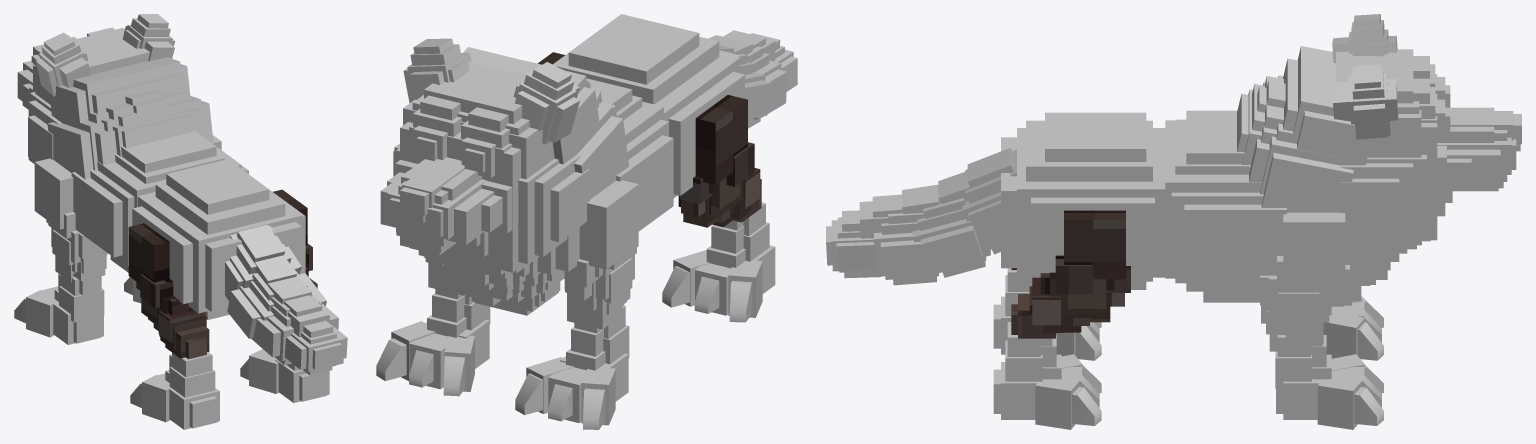
The model's file is dire_wolf.obj.
The picture shows the model from 3 angles, left to right: view 1: azimuth 30°, elevation 25°; view 2: azimuth 150°, elevation 25°; view 3: azimuth 270°, elevation 25°; orthographic projection. The views are drawn at different scales.
Parts seen in each view (by area): view 1: dire_wolf_body_lower, dire_wolf_head, dire_wolf_body_upper, dire_wolf_fur, dire_wolf_leg.005, dire_wolf_tail.001, dire_wolf_leg.007, dire_wolf_tail, dire_wolf_leg.002, dire_wolf_ear, dire_wolf_leg.004, dire_wolf_leg.003 (+2 smaller); view 2: dire_wolf_head, dire_wolf_body_lower, dire_wolf_leg.004, dire_wolf_fur, dire_wolf_leg.005, dire_wolf_leg.002, dire_wolf_head.001, dire_wolf_ear, dire_wolf_leg.003, dire_wolf_body_upper, dire_wolf_leg.007, dire_wolf_tail.001 (+4 smaller); view 3: dire_wolf_body_lower, dire_wolf_head, dire_wolf_body_upper, dire_wolf_fur, dire_wolf_leg.005, dire_wolf_leg.002, dire_wolf_leg.004, dire_wolf_tail, dire_wolf_tail.001, dire_wolf_leg.007, dire_wolf_ear, dire_wolf_head.001 (+3 smaller).
Boxes of the visible parts, x1,y1,x2,y2 form: dire_wolf_body_lower: [132, 159, 305, 319]; dire_wolf_head: [22, 27, 190, 163]; dire_wolf_body_upper: [71, 130, 248, 272]; dire_wolf_fur: [47, 89, 213, 253]; dire_wolf_leg.005: [128, 189, 317, 359]; dire_wolf_tail.001: [251, 276, 347, 375]; dire_wolf_leg.007: [130, 349, 329, 429]; dire_wolf_tail: [225, 225, 326, 338]; dire_wolf_leg.002: [34, 135, 221, 280]; dire_wolf_ear: [36, 14, 175, 96]; dire_wolf_leg.004: [14, 277, 141, 344]; dire_wolf_leg.003: [54, 255, 104, 322]; dire_wolf_head: [387, 47, 598, 278]; dire_wolf_body_lower: [553, 14, 744, 197]; dire_wolf_leg.004: [376, 319, 628, 429]; dire_wolf_fur: [443, 60, 628, 315]; dire_wolf_leg.005: [538, 52, 761, 227]; dire_wolf_leg.002: [424, 180, 638, 314]; dire_wolf_head.001: [380, 157, 494, 244]; dire_wolf_ear: [403, 38, 579, 144]; dire_wolf_leg.003: [427, 263, 629, 370]; dire_wolf_body_upper: [586, 78, 673, 231]; dire_wolf_leg.007: [564, 245, 775, 322]; dire_wolf_tail.001: [708, 30, 797, 128]; dire_wolf_body_lower: [1001, 112, 1165, 289]; dire_wolf_head: [1283, 46, 1471, 249]; dire_wolf_body_upper: [1165, 110, 1286, 302]; dire_wolf_fur: [1237, 75, 1407, 305]; dire_wolf_leg.005: [1011, 210, 1130, 338]; dire_wolf_leg.002: [1260, 212, 1349, 334]; dire_wolf_leg.004: [1276, 296, 1383, 429]; dire_wolf_tail: [912, 147, 1016, 277]; dire_wolf_tail.001: [826, 184, 945, 285]; dire_wolf_leg.007: [993, 296, 1101, 429]; dire_wolf_ear: [1332, 14, 1398, 139]; dire_wolf_head.001: [1437, 107, 1521, 186].
Bounding box in the file's own units: 4.03 × 6.06 × 11.34.
